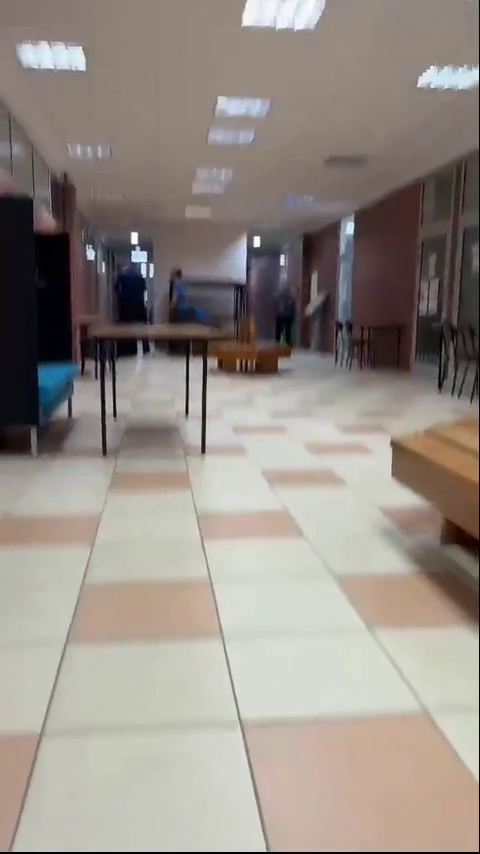no vest: (116, 258, 152, 322), (162, 270, 203, 325), (271, 282, 300, 349)
